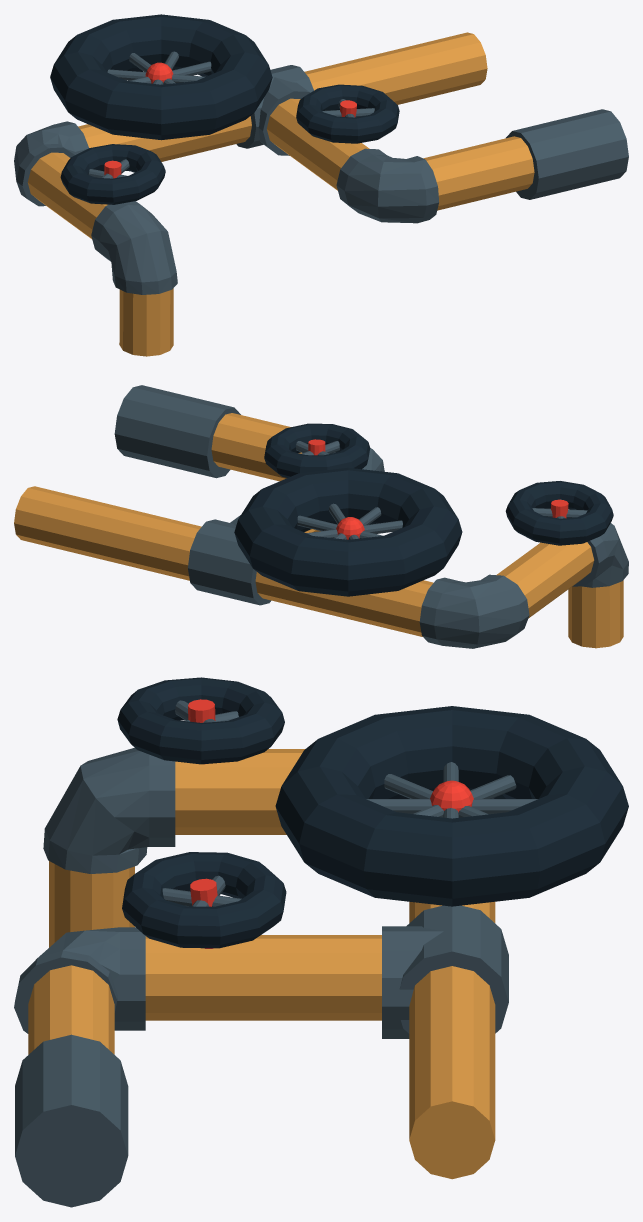
File: трубы (3).fbx
3 views of the same model, one above another, from view 1: azimuth 30°, elevation 25°; view 2: azimuth 150°, elevation 25°; view 3: azimuth 270°, elevation 25° (orthographic). The views are drawn at different scales.
Parts seen in each view (by area): view 1: group1004552146, group101053789, group88248500, group1958307834, group231731733, group1142927423, group1350089925, group1368530898, group513117509, group372445576, group444473868, group1421749061 (+3 smaller); view 2: group1004552146, group101053789, group88248500, group1421749061, group1350089925, group1550065549, group444473868, group1368530898, group372445576, group1142927423, group231731733, group1882872651 (+2 smaller); view 3: group1004552146, group513117509, group101053789, group88248500, group231731733, group1368530898, group1350089925, group444473868, group1958307834, group1550065549, group1142927423, group372445576 (+5 smaller).
Part boxes in pixels (x1=…): group1004552146: x1=50, y1=14, x2=272, y2=140; group101053789: x1=78, y1=32, x2=487, y2=161; group88248500: x1=506, y1=109, x2=628, y2=199; group1958307834: x1=336, y1=148, x2=439, y2=223; group231731733: x1=91, y1=201, x2=177, y2=294; group1142927423: x1=423, y1=136, x2=534, y2=210; group1350089925: x1=60, y1=144, x2=165, y2=204; group1368530898: x1=296, y1=84, x2=399, y2=143; group513117509: x1=267, y1=98, x2=369, y2=190; group372445576: x1=119, y1=288, x2=173, y2=356; group444473868: x1=27, y1=152, x2=107, y2=239; group1421749061: x1=14, y1=121, x2=88, y2=206; group1004552146: x1=234, y1=467, x2=462, y2=596; group101053789: x1=14, y1=486, x2=433, y2=636; group88248500: x1=114, y1=385, x2=240, y2=478; group1421749061: x1=419, y1=574, x2=529, y2=648; group1350089925: x1=505, y1=481, x2=613, y2=545; group1550065549: x1=188, y1=519, x2=271, y2=605; group444473868: x1=496, y1=542, x2=594, y2=618; group1368530898: x1=264, y1=423, x2=370, y2=477; group372445576: x1=568, y1=580, x2=623, y2=648; group1142927423: x1=211, y1=413, x2=302, y2=481; group231731733: x1=572, y1=523, x2=628, y2=587; group1882872651: x1=307, y1=520, x2=402, y2=538; group1004552146: x1=275, y1=706, x2=628, y2=906; group513117509: x1=145, y1=935, x2=381, y2=1020; group101053789: x1=409, y1=901, x2=495, y2=1179; group88248500: x1=15, y1=1034, x2=128, y2=1207; group231731733: x1=43, y1=747, x2=175, y2=873; group1368530898: x1=122, y1=852, x2=286, y2=948; group1350089925: x1=117, y1=677, x2=284, y2=764; group444473868: x1=175, y1=749, x2=304, y2=834; group1958307834: x1=14, y1=927, x2=145, y2=1033; group1550065549: x1=399, y1=905, x2=508, y2=1033; group1142927423: x1=28, y1=965, x2=114, y2=1054; group372445576: x1=49, y1=861, x2=134, y2=947.
Bounding box in the file's own units: 407 × 138 × 271.
